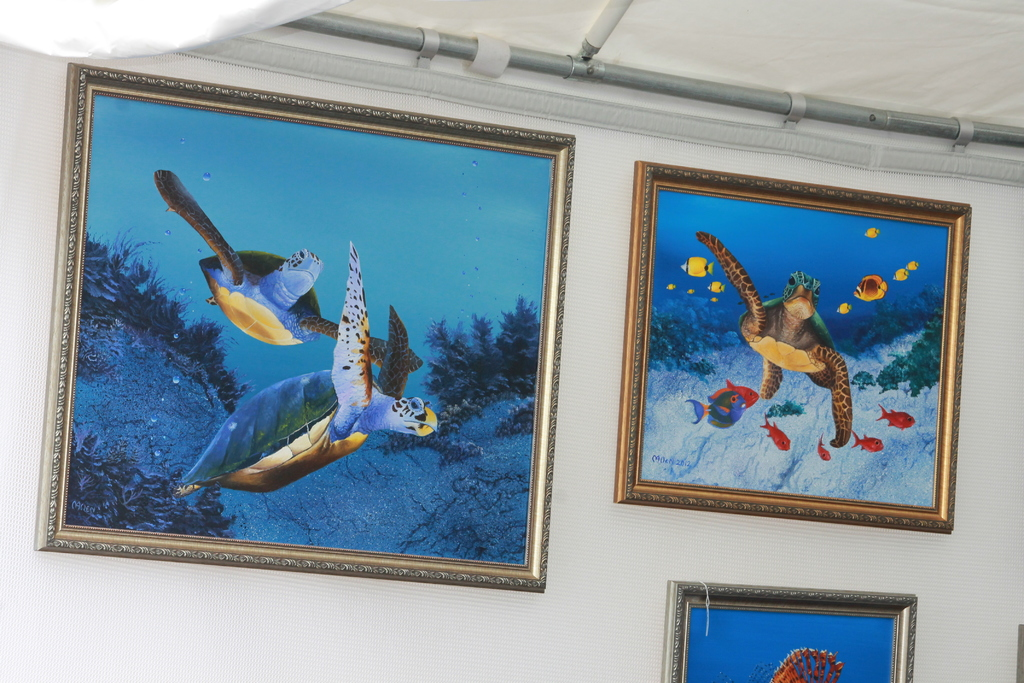Sea turtles: (175, 240, 440, 497), (156, 166, 423, 374), (688, 231, 855, 451)
